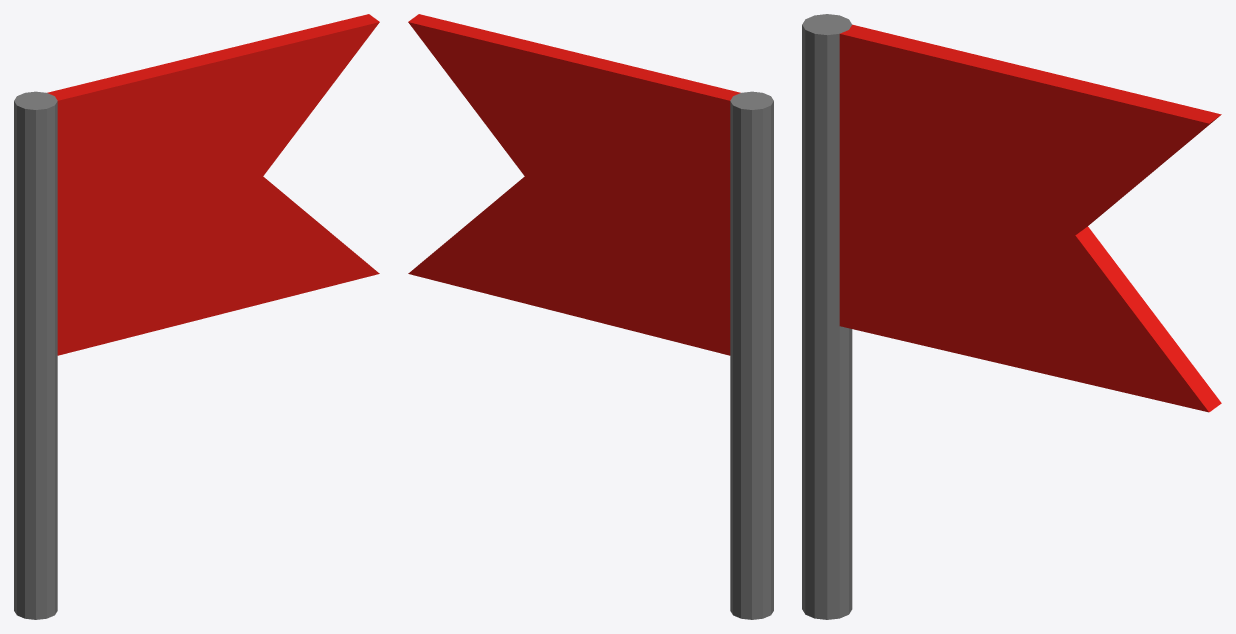
File: F-Flag Inverted Triangle.fbx
3 views of the same model, side by side, from view 1: azimuth 30°, elevation 25°; view 2: azimuth 150°, elevation 25°; view 3: azimuth 330°, elevation 25° (orthographic). The views are drawn at different scales.
Parts seen in each view (by area): view 1: FlagInvertedTriangle; view 2: FlagInvertedTriangle; view 3: FlagInvertedTriangle.
Boxes of the visible parts, x1=… form: FlagInvertedTriangle: x1=14, y1=14, x2=379, y2=619; FlagInvertedTriangle: x1=408, y1=14, x2=773, y2=619; FlagInvertedTriangle: x1=802, y1=14, x2=1221, y2=619.
Size of the model in its own units: 4.72 by 6.43 by 0.5.
